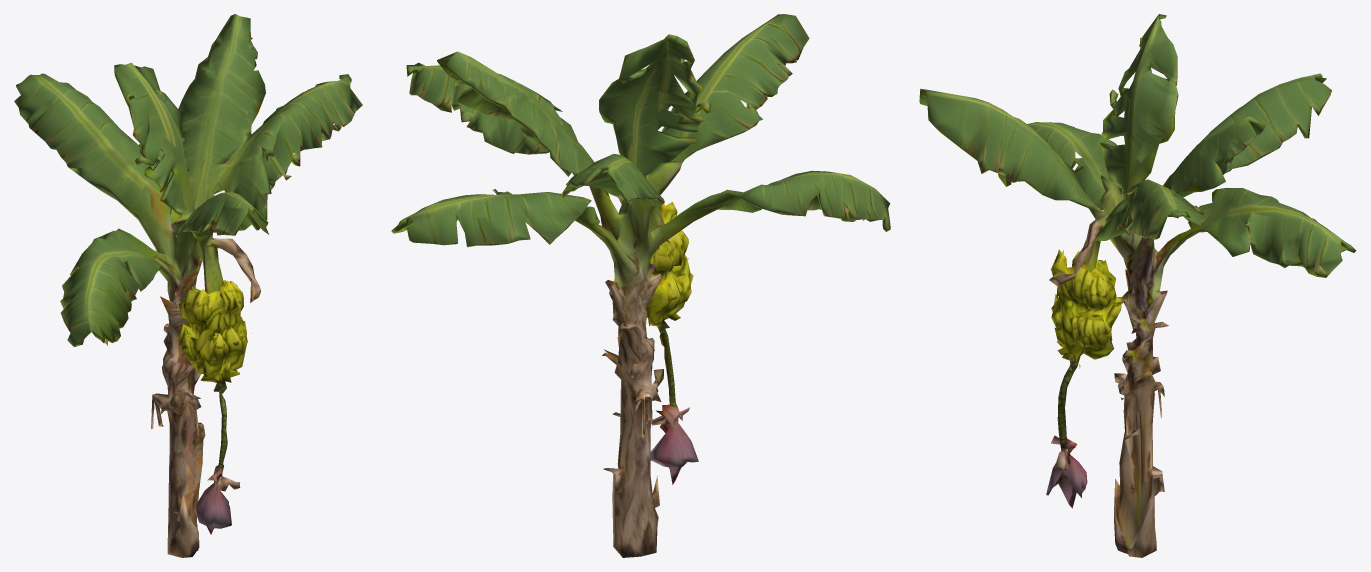
Rendered from finalizedbananatree.fbx.
The picture shows the model from 3 angles, left to right: view 1: azimuth 30°, elevation 25°; view 2: azimuth 150°, elevation 25°; view 3: azimuth 270°, elevation 25°; orthographic projection. The views are drawn at different scales.
Visible parts, largest first — view 1: tripo_node_0e1cd6bc; view 2: tripo_node_0e1cd6bc; view 3: tripo_node_0e1cd6bc.
Part boxes in pixels (x1,y1,x2,y2): tripo_node_0e1cd6bc: (14,14,362,557); tripo_node_0e1cd6bc: (391,14,890,557); tripo_node_0e1cd6bc: (919,14,1356,557).
Size of the model in its own units: 0.7721 by 1 by 0.777.
1 material, 1 textured.
